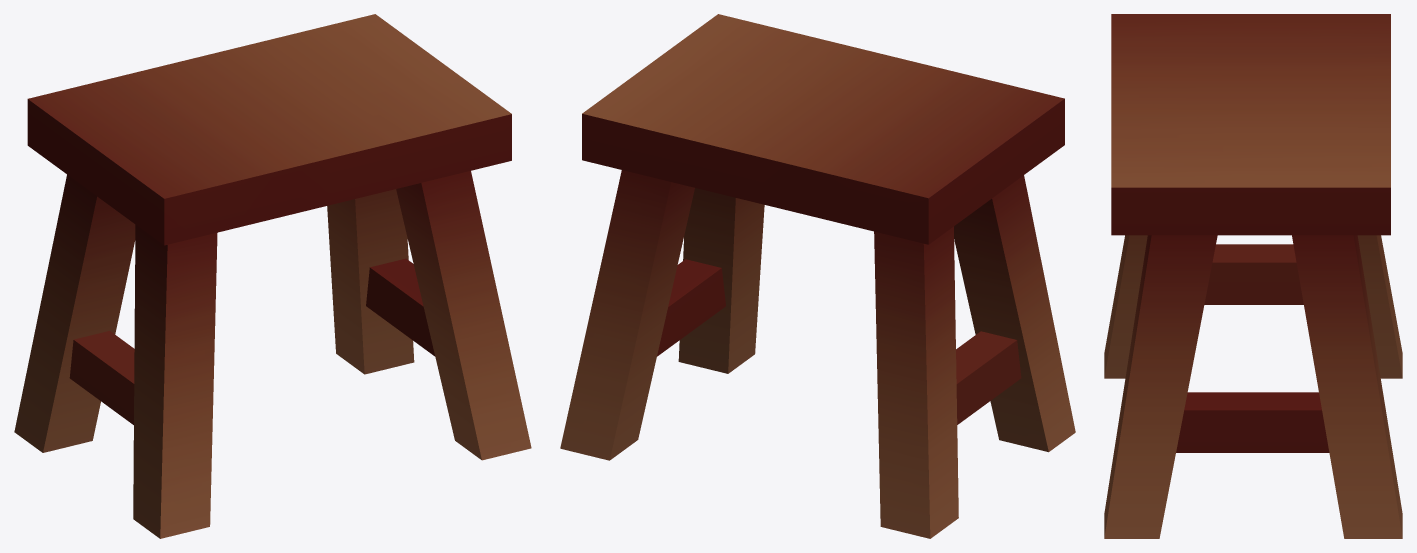
File: SM_Stool_01.fbx
3 renders of one model, left to right at view 1: azimuth 30°, elevation 25°; view 2: azimuth 150°, elevation 25°; view 3: azimuth 270°, elevation 25°, orthographic. The views are drawn at different scales.
Parts seen in each view (by area): view 1: SM_Stool_01; view 2: SM_Stool_01; view 3: SM_Stool_01.
Part boxes in pixels (x1,y1,x2,y2): SM_Stool_01: (14, 14, 531, 538); SM_Stool_01: (560, 14, 1075, 538); SM_Stool_01: (1104, 14, 1402, 538).
Bounding box in the file's own units: 88.06 × 76.07 × 59.92.
